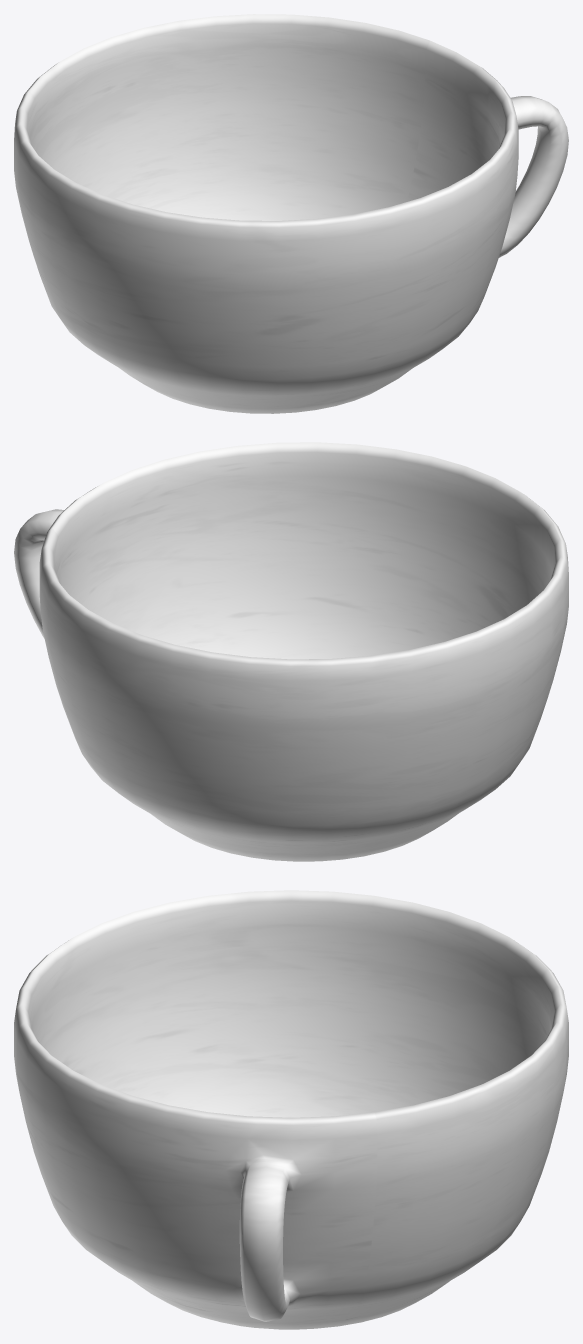
The model's file is tasse01.fbx.
The picture shows the model from 3 angles, top to bottom: view 1: azimuth 30°, elevation 25°; view 2: azimuth 150°, elevation 25°; view 3: azimuth 270°, elevation 25°; orthographic projection. The views are drawn at different scales.
Parts seen in each view (by area): view 1: tasse1; view 2: tasse1; view 3: tasse1.
Part boxes in pixels (x1,y1,x2,y2): tasse1: [14, 14, 568, 413]; tasse1: [14, 442, 568, 861]; tasse1: [14, 890, 568, 1329].
Size of the model in its own units: 0.4467 by 0.2119 by 0.3878.
1 material, 1 textured.
